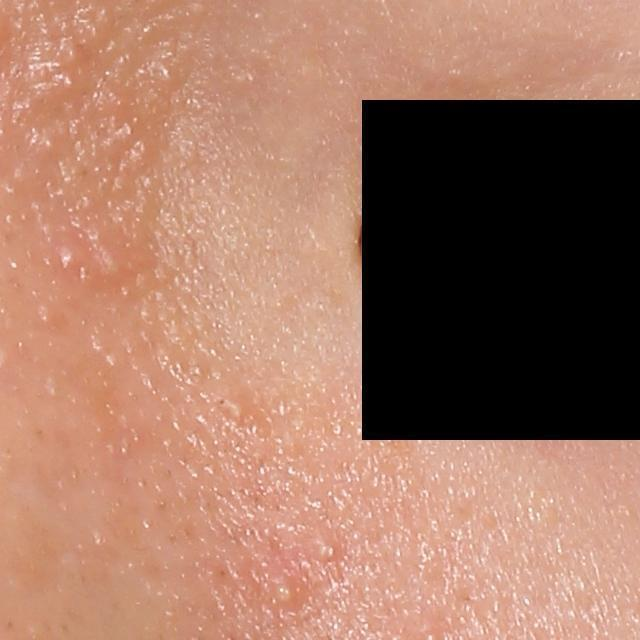comedo: (220, 397, 249, 425)
pustule: (262, 566, 306, 612), (304, 527, 338, 565), (57, 238, 85, 277)
